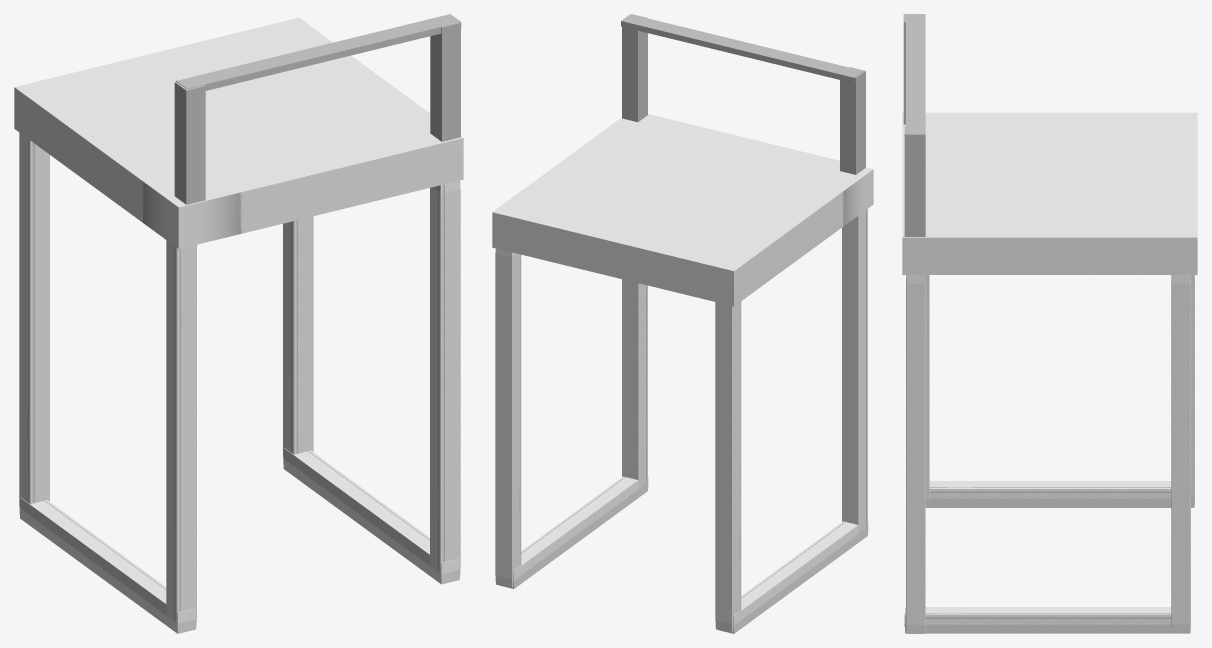
The model's file is banco.obj.
The picture shows the model from 3 angles, left to right: view 1: azimuth 30°, elevation 25°; view 2: azimuth 150°, elevation 25°; view 3: azimuth 270°, elevation 25°; orthographic projection. The views are drawn at different scales.
Parts seen in each view (by area): view 1: Cubo.001; view 2: Cubo.001; view 3: Cubo.001.
Boxes of the visible parts, x1,y1,x2,y2 form: Cubo.001: (14,14,463,633); Cubo.001: (492,14,873,633); Cubo.001: (902,14,1197,633).
Size of the model in its own units: 2.53 by 4.73 by 2.53.
